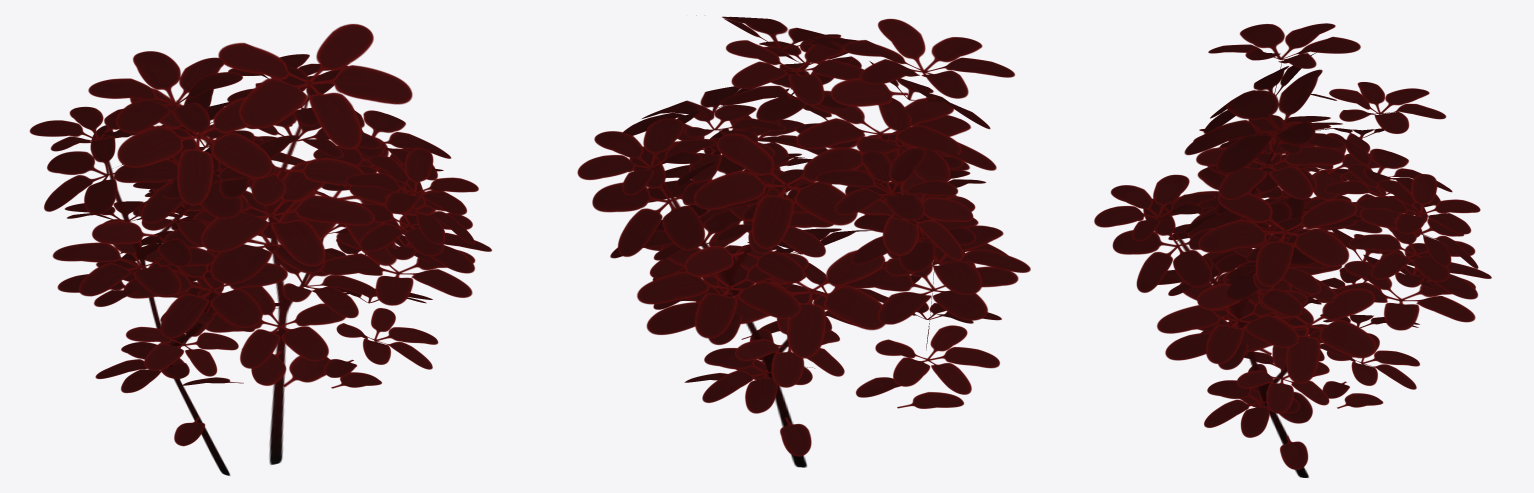
Rendered from SM_Nature_Plant_03.glb.
3 renders of one model, left to right at view 1: azimuth 30°, elevation 25°; view 2: azimuth 150°, elevation 25°; view 3: azimuth 270°, elevation 25°, orthographic. The views are drawn at different scales.
Parts seen in each view (by area): view 1: SM_Plant_03; view 2: SM_Plant_03; view 3: SM_Plant_03.
Part boxes in pixels (<box>): SM_Plant_03: <box>29,24,491,475</box>; SM_Plant_03: <box>577,15,1030,467</box>; SM_Plant_03: <box>1094,23,1491,477</box>.
Size of the model in its own units: 0.6343 by 0.5958 by 0.6292.
Materials: 1 (1 with a texture image).
